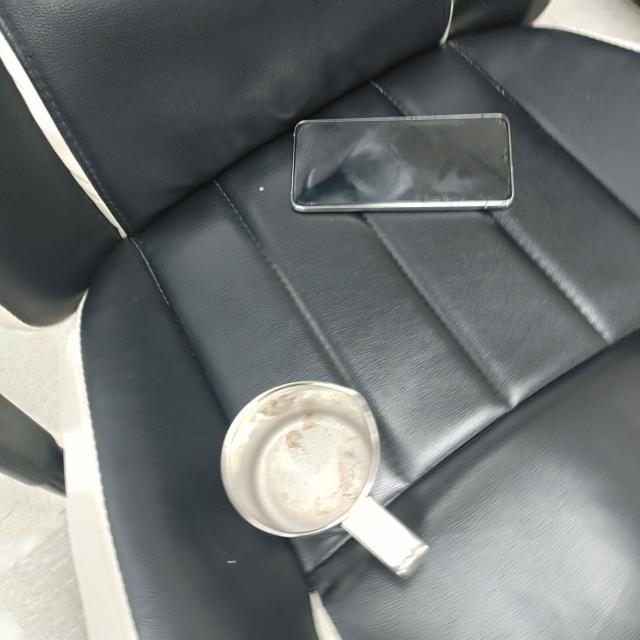cup: (218, 374, 427, 570)
phone: (287, 109, 516, 216)
